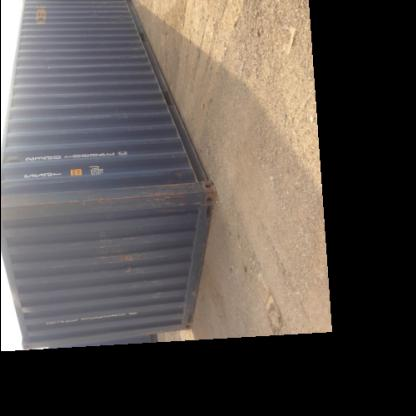Damage: (79, 183, 184, 223), (88, 238, 138, 288), (104, 45, 148, 83)
